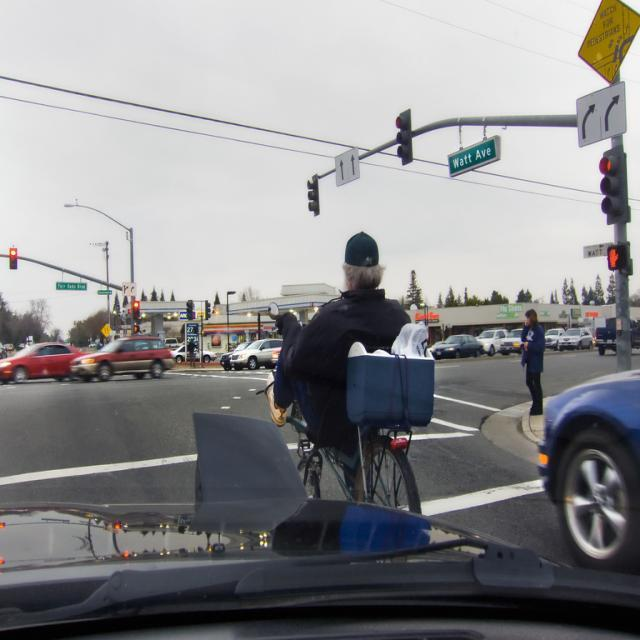traffic light: (599, 147, 630, 225), (395, 111, 413, 163), (307, 177, 320, 215)
